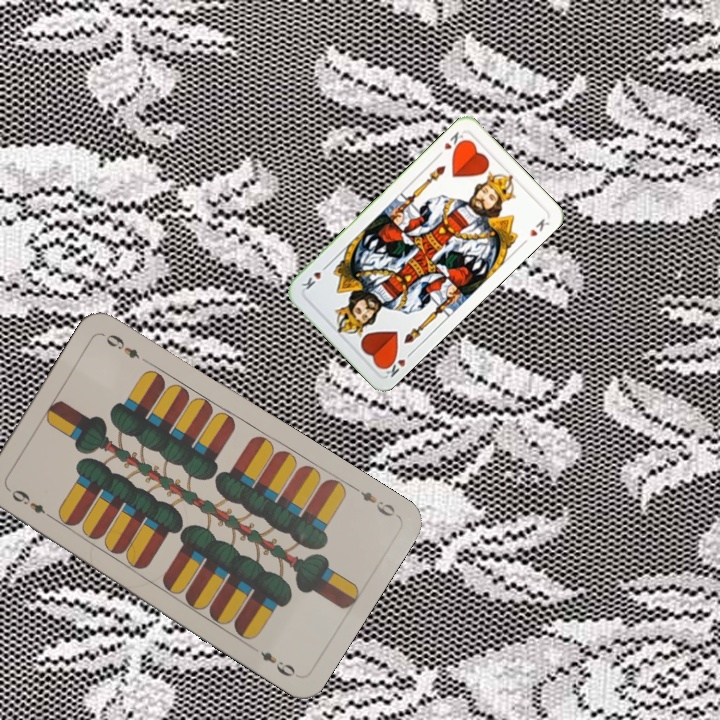E9: (4, 484, 57, 522), (348, 481, 398, 520)
HK: (378, 347, 416, 380), (433, 127, 468, 160)
